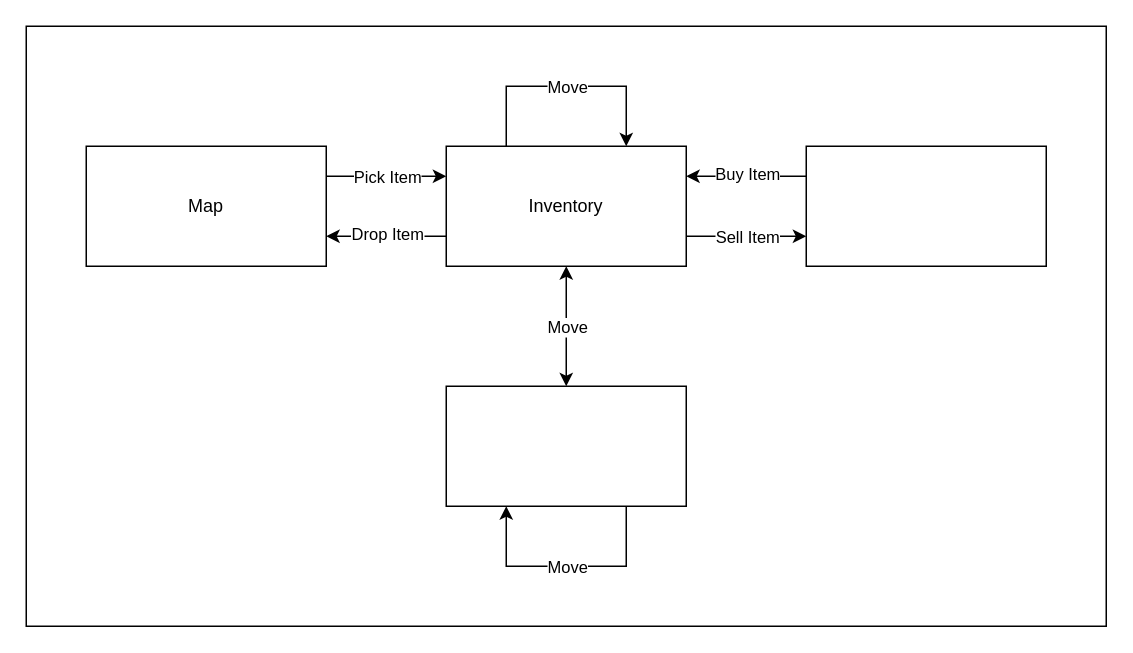
The diagram is 1133 pixels wide and 653 high, and some of its shapes have lost their labels. The shapes that lost their labels are listed below. From the top down, each one's centre as x and y in pixels, then its label:
the point at 925,205: Shop
the point at 565,445: Warehouse
